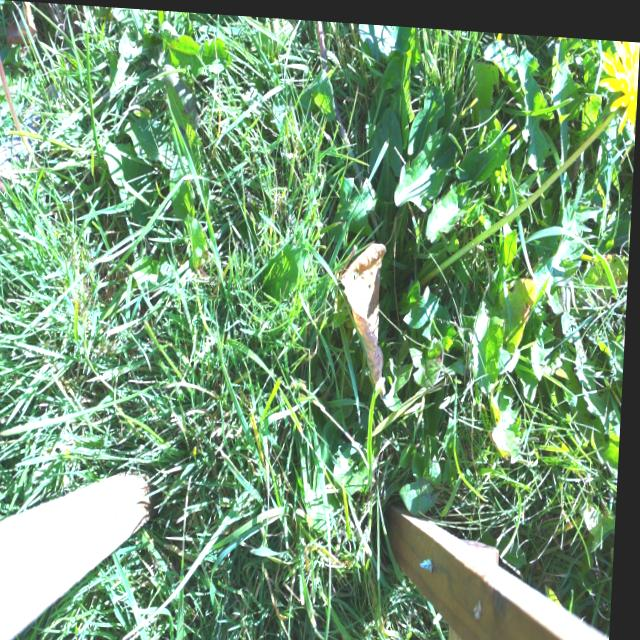base: (416, 255, 441, 293)
flower: (602, 32, 640, 114)
